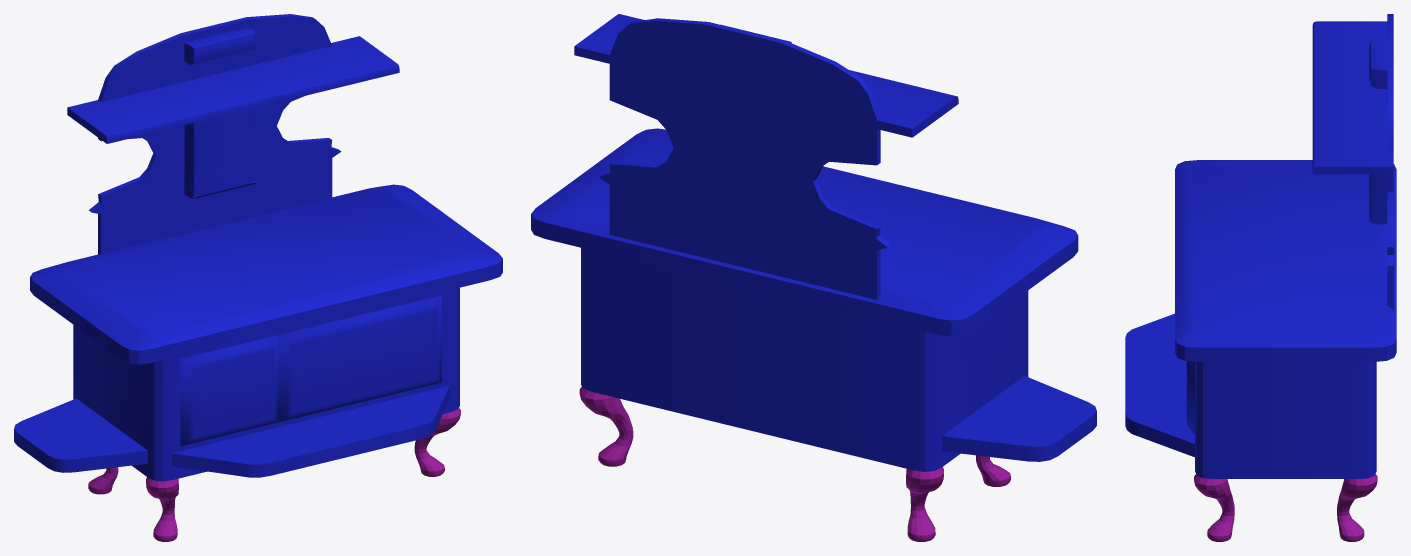
The model's file is Stove001.FBX.
The picture shows the model from 3 angles, left to right: view 1: azimuth 30°, elevation 25°; view 2: azimuth 150°, elevation 25°; view 3: azimuth 270°, elevation 25°; orthographic projection. The views are drawn at different scales.
Visible parts, largest first — view 1: stove, leg; view 2: stove, leg; view 3: stove, leg.
Boxes of the visible parts, bbox=[...] form: stove: bbox=[14, 14, 502, 481]; leg: bbox=[88, 408, 460, 541]; stove: bbox=[531, 14, 1096, 471]; leg: bbox=[579, 387, 1010, 541]; stove: bbox=[1125, 14, 1396, 478]; leg: bbox=[1194, 474, 1377, 541].
Size of the model in its own units: 1.37 by 1.29 by 0.748.
